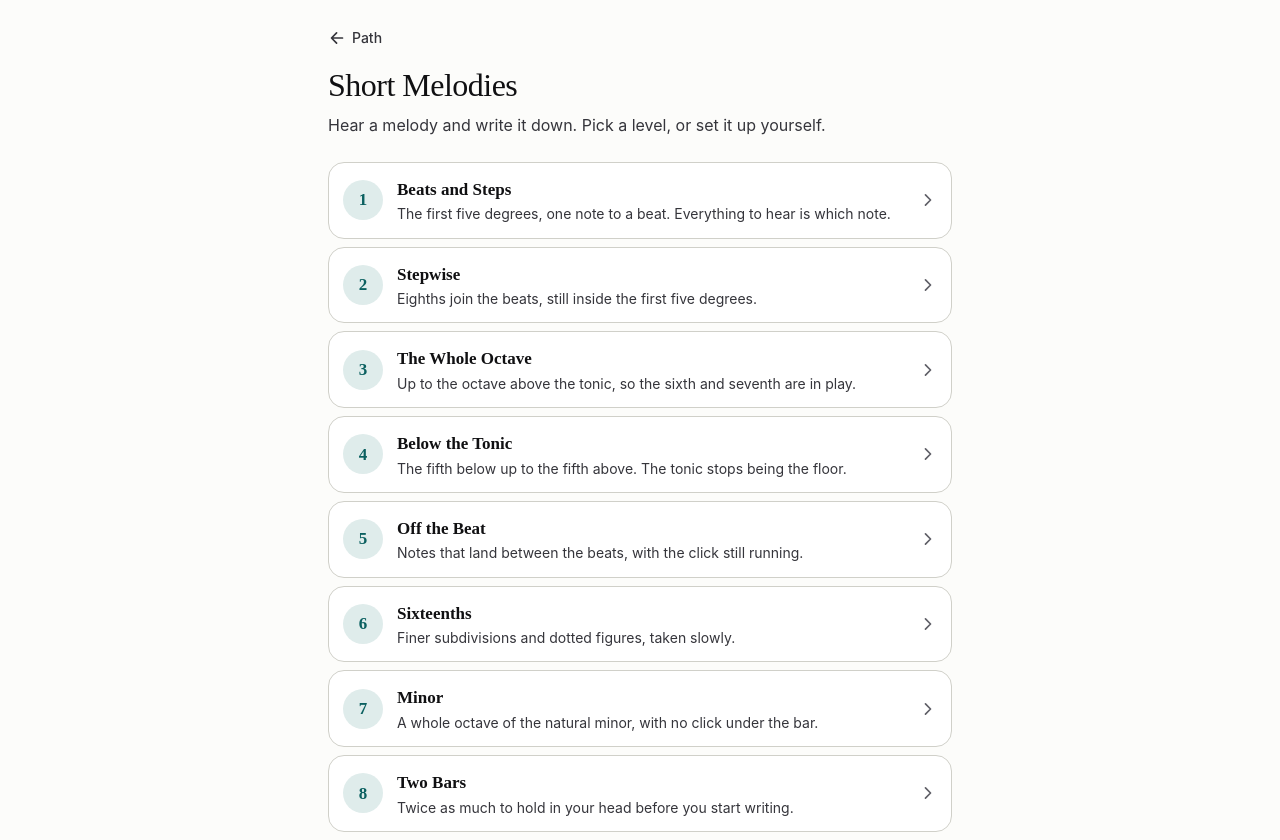
Scenario: Melodic Dictation › offers a key per scale step in the level, and a rest
Step 1. Click the text "Beats and Steps" → (454, 189), box [397,180,511,199]
(page scrolled)
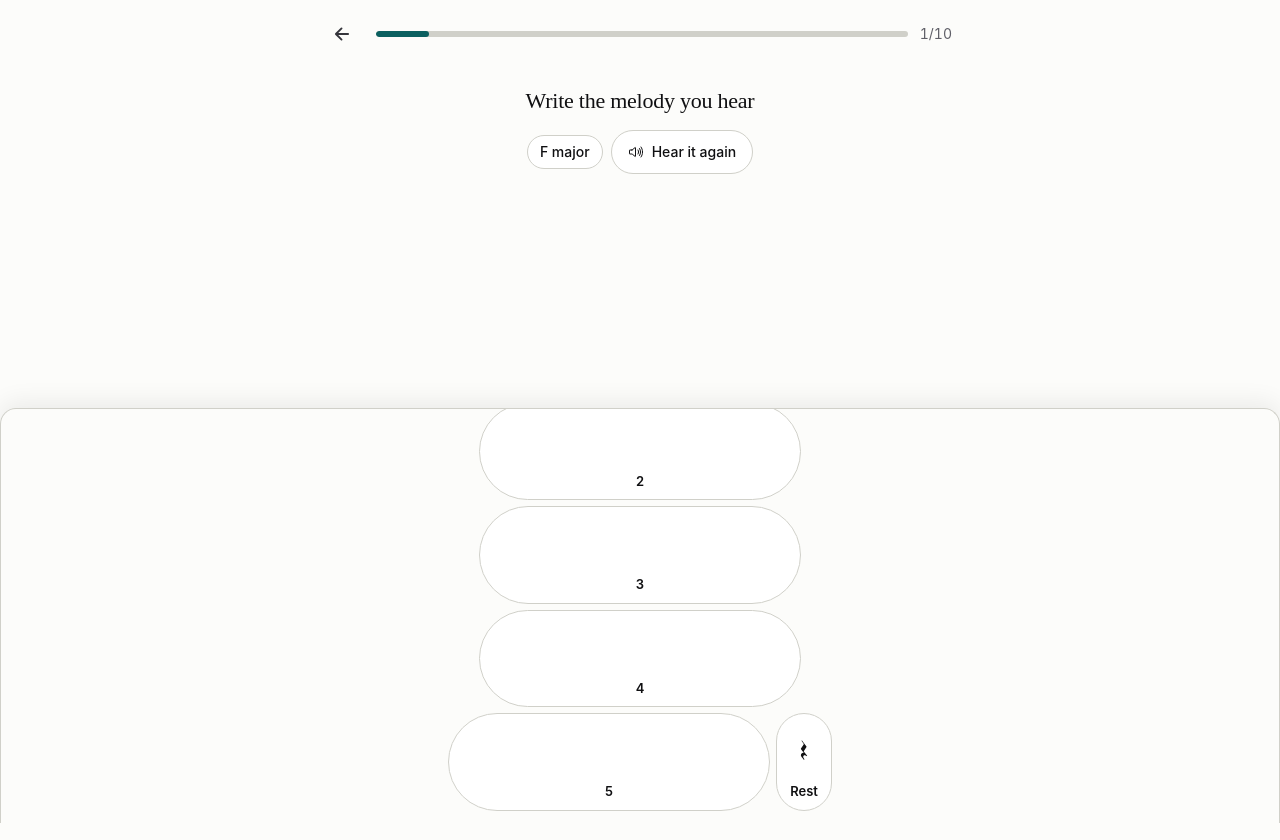
Expected: the button with aria-label "Quarter rest" is shown, [776,713,832,811]
